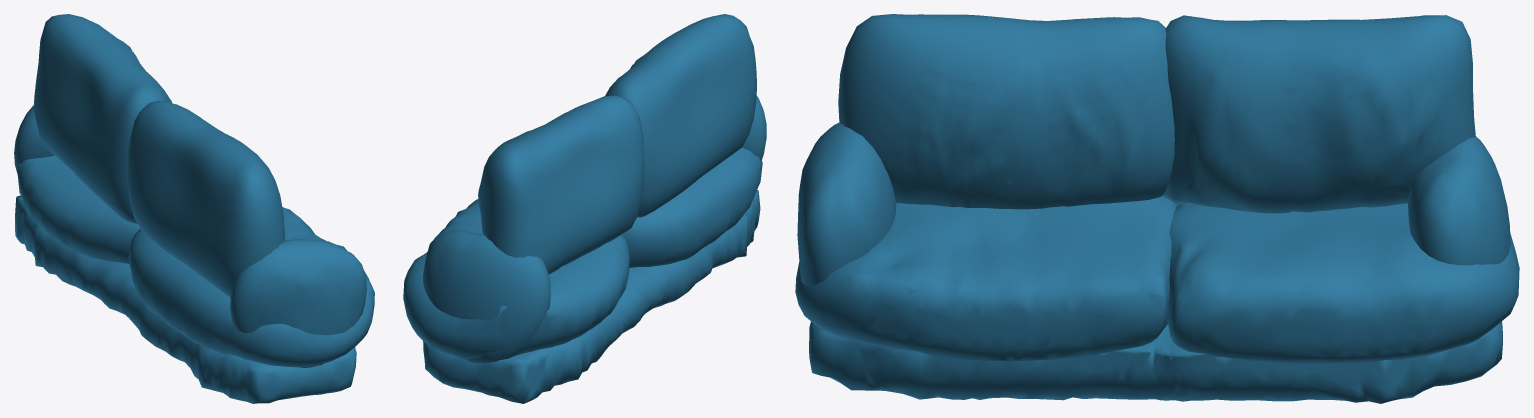
Rendered from sofa.gltf.
3 renders of one model, left to right at view 1: azimuth 30°, elevation 25°; view 2: azimuth 150°, elevation 25°; view 3: azimuth 270°, elevation 25°, orthographic. The views are drawn at different scales.
Visible parts, largest first — view 1: Sphere; view 2: Sphere; view 3: Sphere.
Boxes of the visible parts, box(x1,y1,x2,y2) form: Sphere: box(14, 14, 374, 403); Sphere: box(403, 14, 766, 403); Sphere: box(795, 14, 1519, 403).
Bounding box in the file's own units: 3.72 × 4.54 × 9.03.
